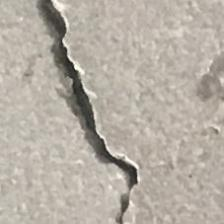Crack: (45, 10, 159, 224)
